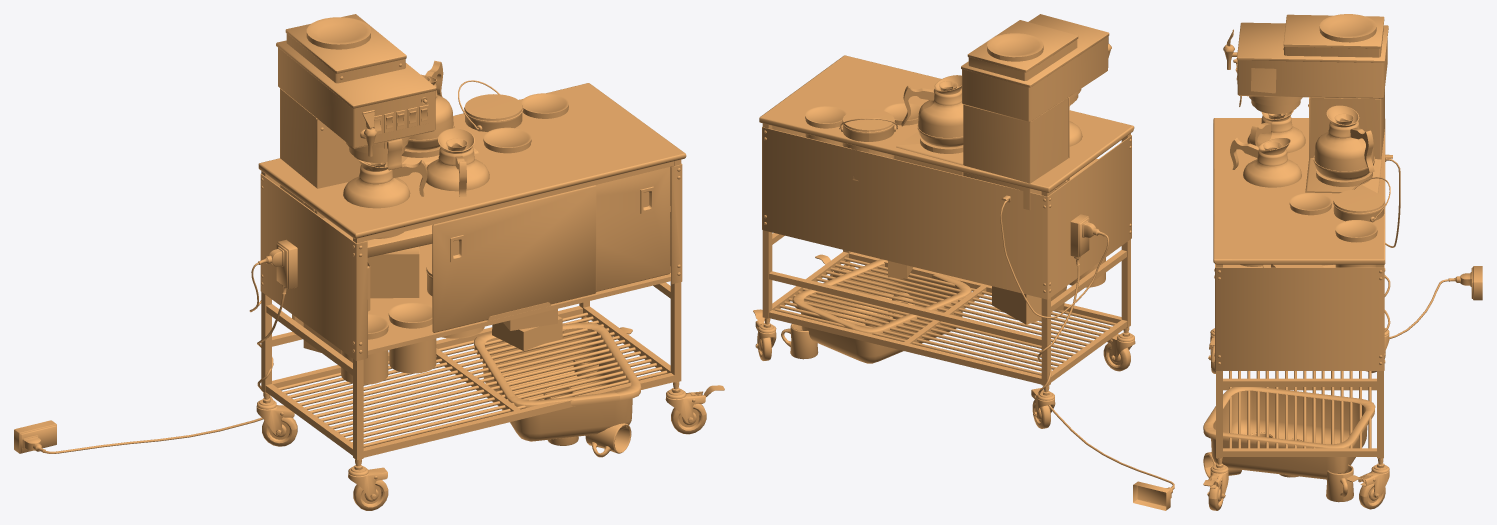
The model's file is garage-coffee-drip.glb.
3 views of the same model, side by side, from view 1: azimuth 30°, elevation 25°; view 2: azimuth 150°, elevation 25°; view 3: azimuth 270°, elevation 25° (orthographic). The views are drawn at different scales.
Visible parts, largest first — view 1: CoffeeCart_01_cart, CoffeeCart_01_props, CoffeeCart_01_mugs; view 2: CoffeeCart_01_cart, CoffeeCart_01_props, CoffeeCart_01_mugs; view 3: CoffeeCart_01_cart, CoffeeCart_01_props, CoffeeCart_01_mugs.
Boxes of the visible parts, bbox=[...] form: CoffeeCart_01_cart: bbox=[256, 83, 724, 510]; CoffeeCart_01_props: bbox=[14, 14, 641, 453]; CoffeeCart_01_mugs: bbox=[539, 360, 631, 457]; CoffeeCart_01_cart: bbox=[753, 55, 1135, 428]; CoffeeCart_01_props: bbox=[792, 14, 1174, 510]; CoffeeCart_01_mugs: bbox=[781, 291, 914, 359]; CoffeeCart_01_cart: bbox=[1203, 118, 1389, 510]; CoffeeCart_01_props: bbox=[1203, 14, 1482, 479]; CoffeeCart_01_mugs: bbox=[1203, 432, 1353, 502].
Bounding box in the file's own units: 0.85 × 0.6075 × 0.4209.
